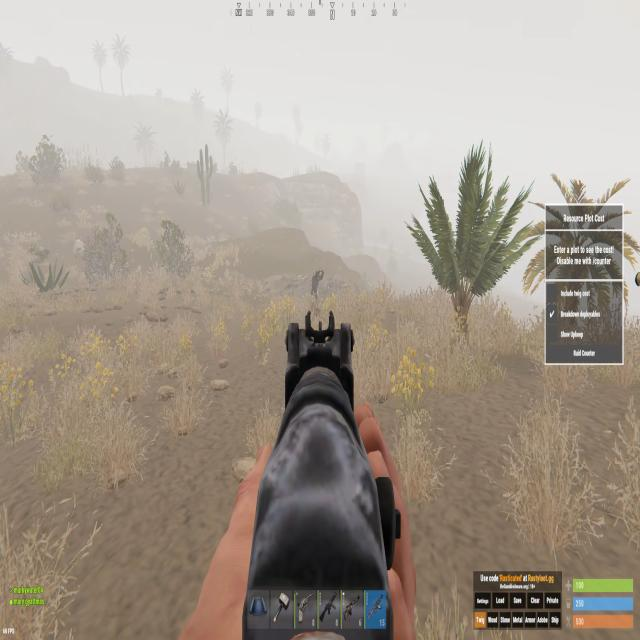Player: (310, 263, 324, 312)
